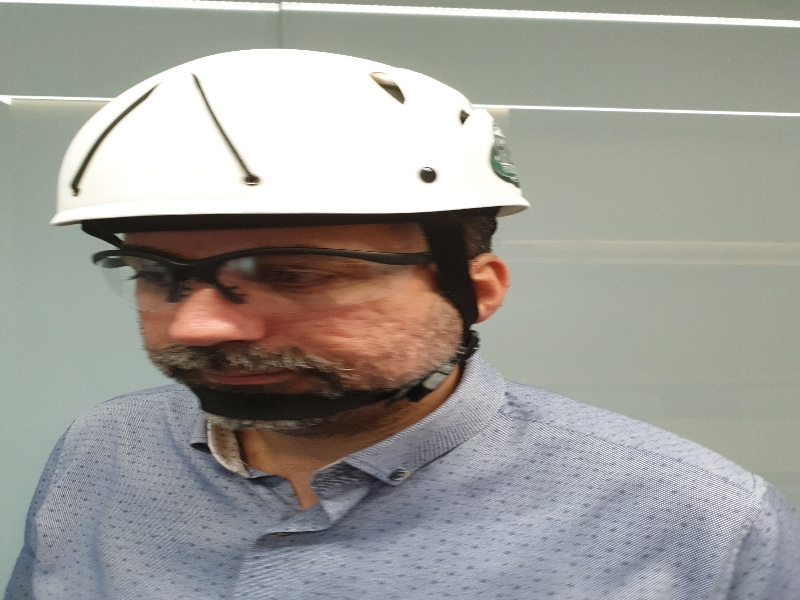Baret: (47, 46, 527, 225)
Gozluk: (89, 248, 452, 313)
